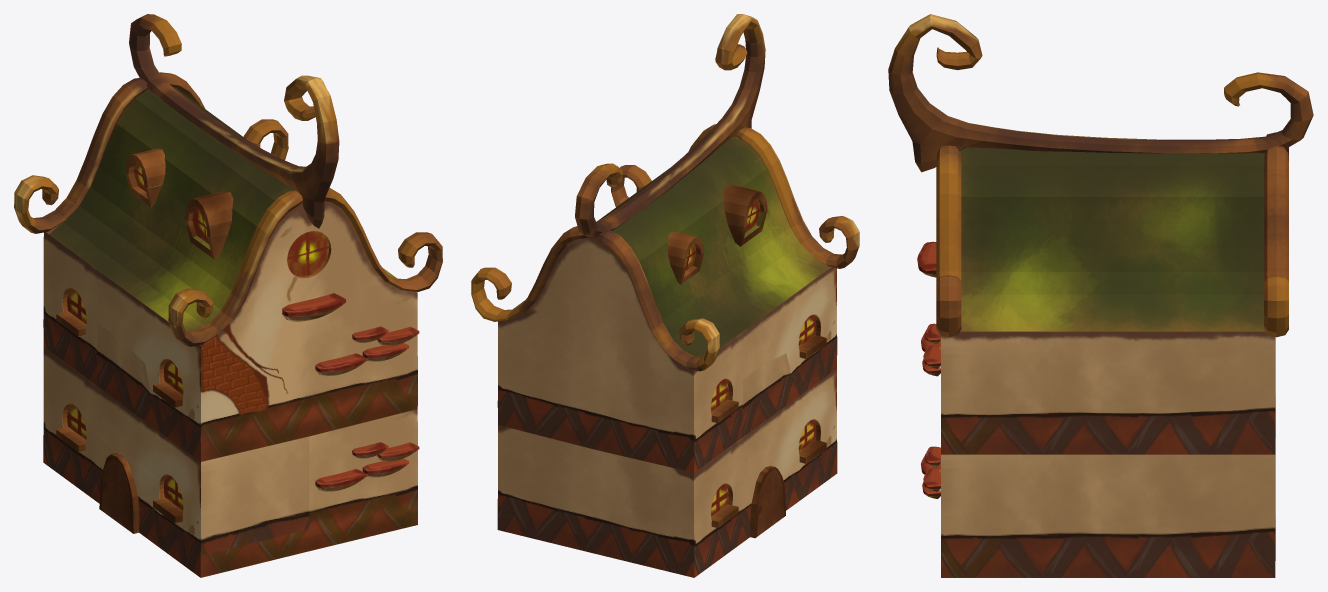
File: mole_house_2katlı_WİTH_texture.fbx
The picture shows the model from 3 angles, left to right: view 1: azimuth 30°, elevation 25°; view 2: azimuth 150°, elevation 25°; view 3: azimuth 270°, elevation 25°; orthographic projection. The views are drawn at different scales.
Parts seen in each view (by area): view 1: mole_house_lp.001; view 2: mole_house_lp.001; view 3: mole_house_lp.001.
Boxes of the visible parts, <box> form: mole_house_lp.001: <box>14,14,442,577</box>; mole_house_lp.001: <box>471,14,859,577</box>; mole_house_lp.001: <box>888,14,1313,577</box>.
Size of the model in its own units: 904 by 1535 by 1169.
1 material, 1 textured.
